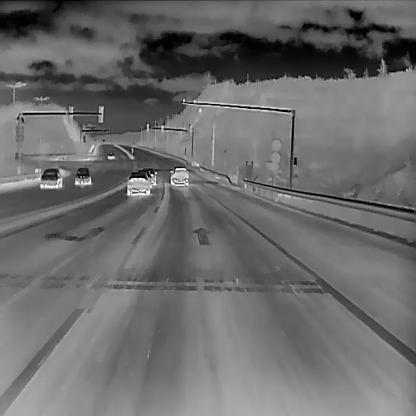car: (126, 171, 150, 194), (38, 166, 62, 189), (168, 164, 188, 186), (73, 166, 91, 185), (142, 166, 156, 184), (106, 151, 114, 159)
